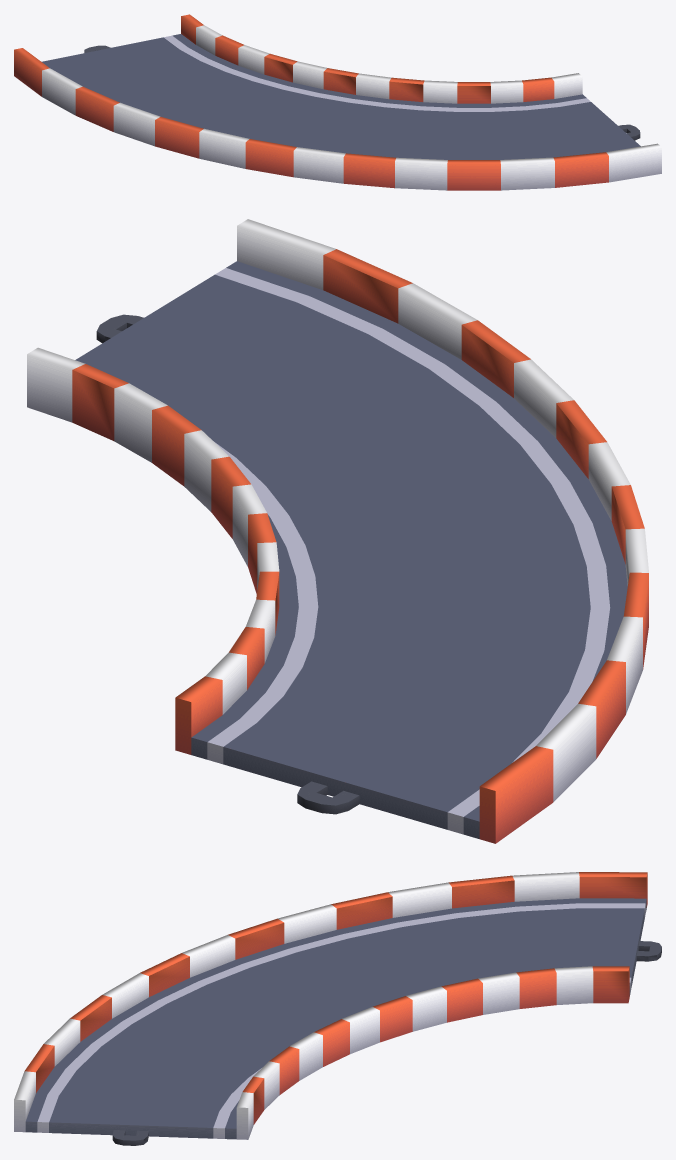
File: track-road-wide-corner-large.003_lev2.glb
The picture shows the model from 3 angles, top to bottom: view 1: azimuth 30°, elevation 25°; view 2: azimuth 150°, elevation 25°; view 3: azimuth 270°, elevation 25°; orthographic projection. The views are drawn at different scales.
Visible parts, largest first — view 1: track-road-wide-corner-large.003_lev2; view 2: track-road-wide-corner-large.003_lev2; view 3: track-road-wide-corner-large.003_lev2.
Part boxes in pixels (<box>): track-road-wide-corner-large.003_lev2: <box>14,14,661,190</box>; track-road-wide-corner-large.003_lev2: <box>27,219,648,843</box>; track-road-wide-corner-large.003_lev2: <box>14,872,661,1145</box>.
Bounding box in the file's own units: 4.87 × 0.3 × 5.51.
Materials: 1 (1 with a texture image).
